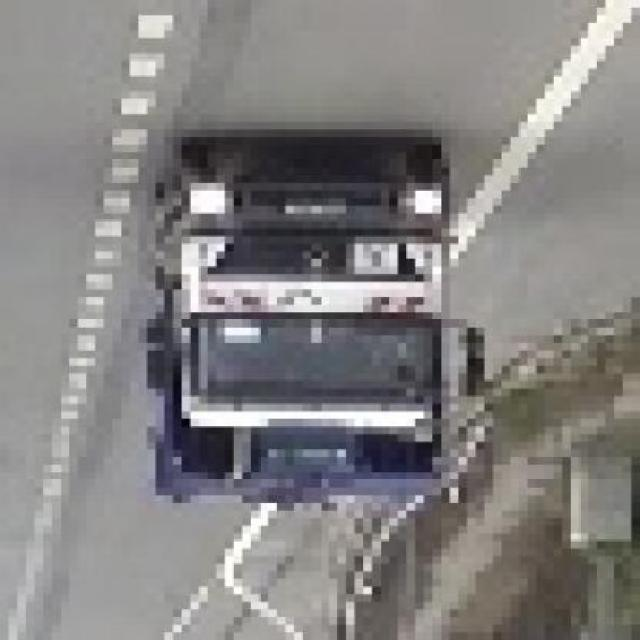truck: (130, 161, 486, 519)
